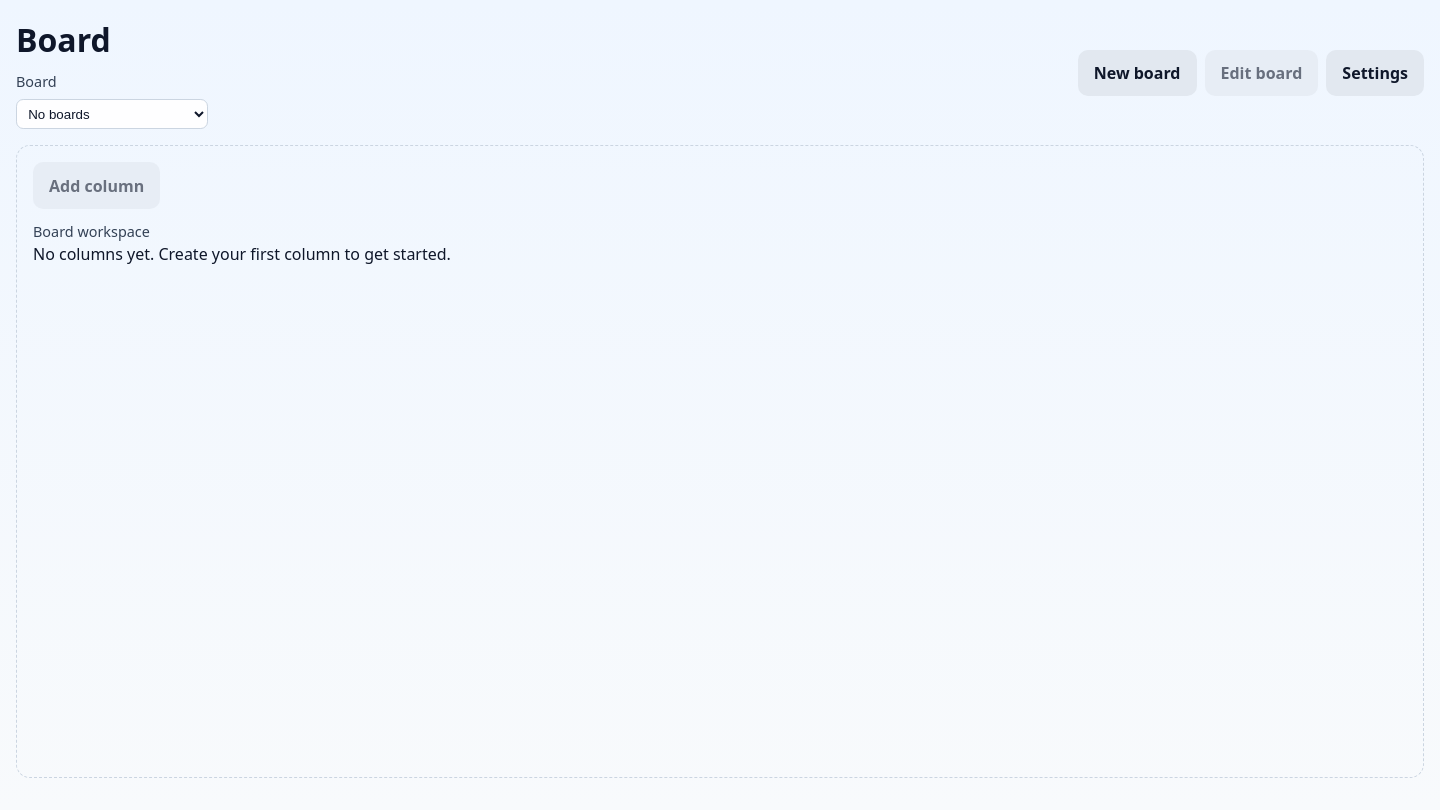
Test: App › redirects signed-in users from /signin to /boards
The width and height of the screenshot is (1440, 810).
Click the button with test id "app.settings.toggle" at (1375, 73), box x1=1326 y1=50 x2=1424 y2=96
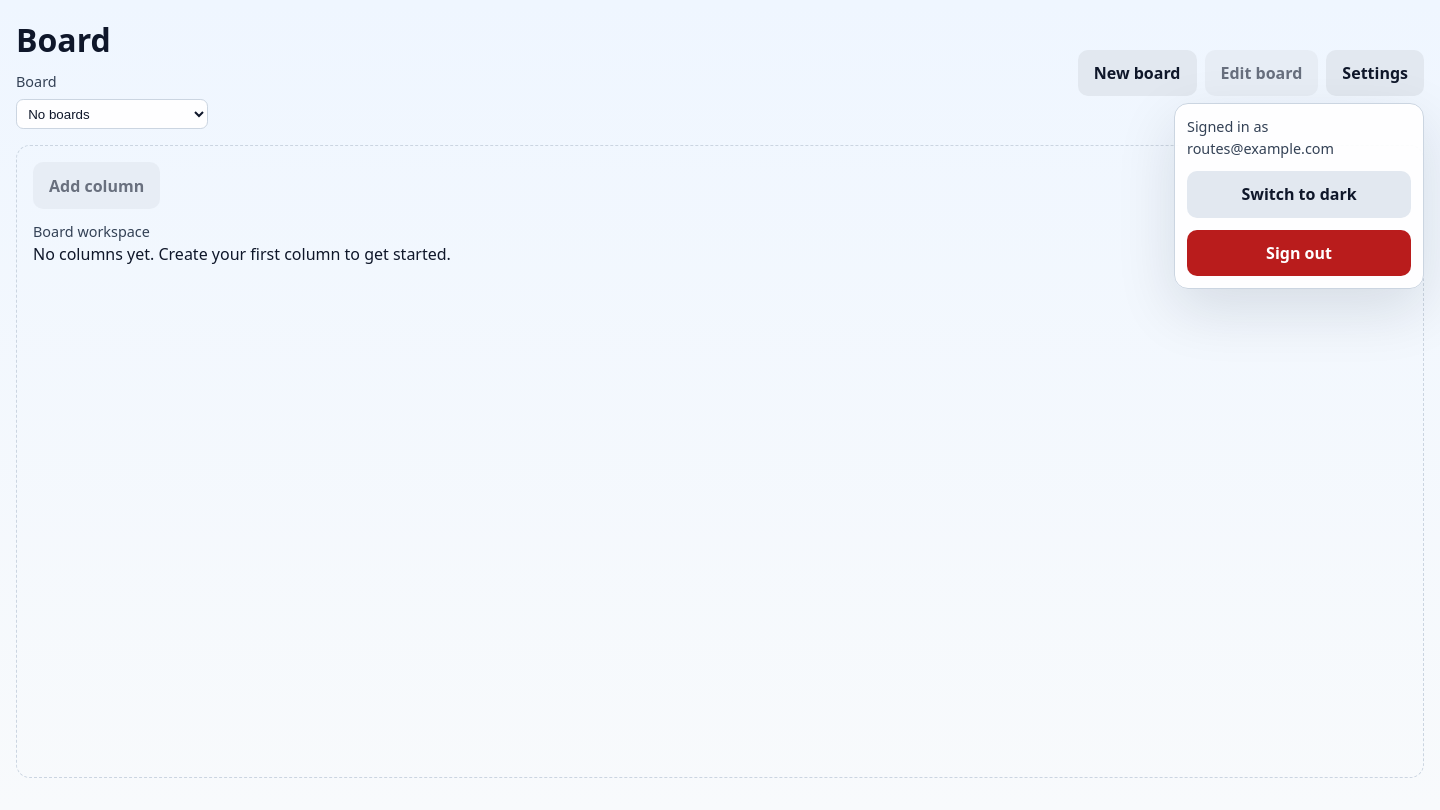
expect the button with test id "auth.signout.submit" is shown: met, box x1=1187 y1=230 x2=1411 y2=276
